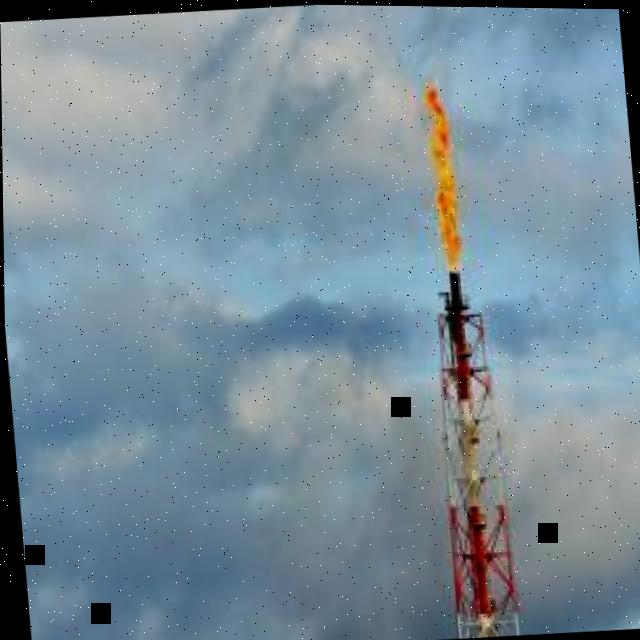fire: (423, 76, 460, 269)
